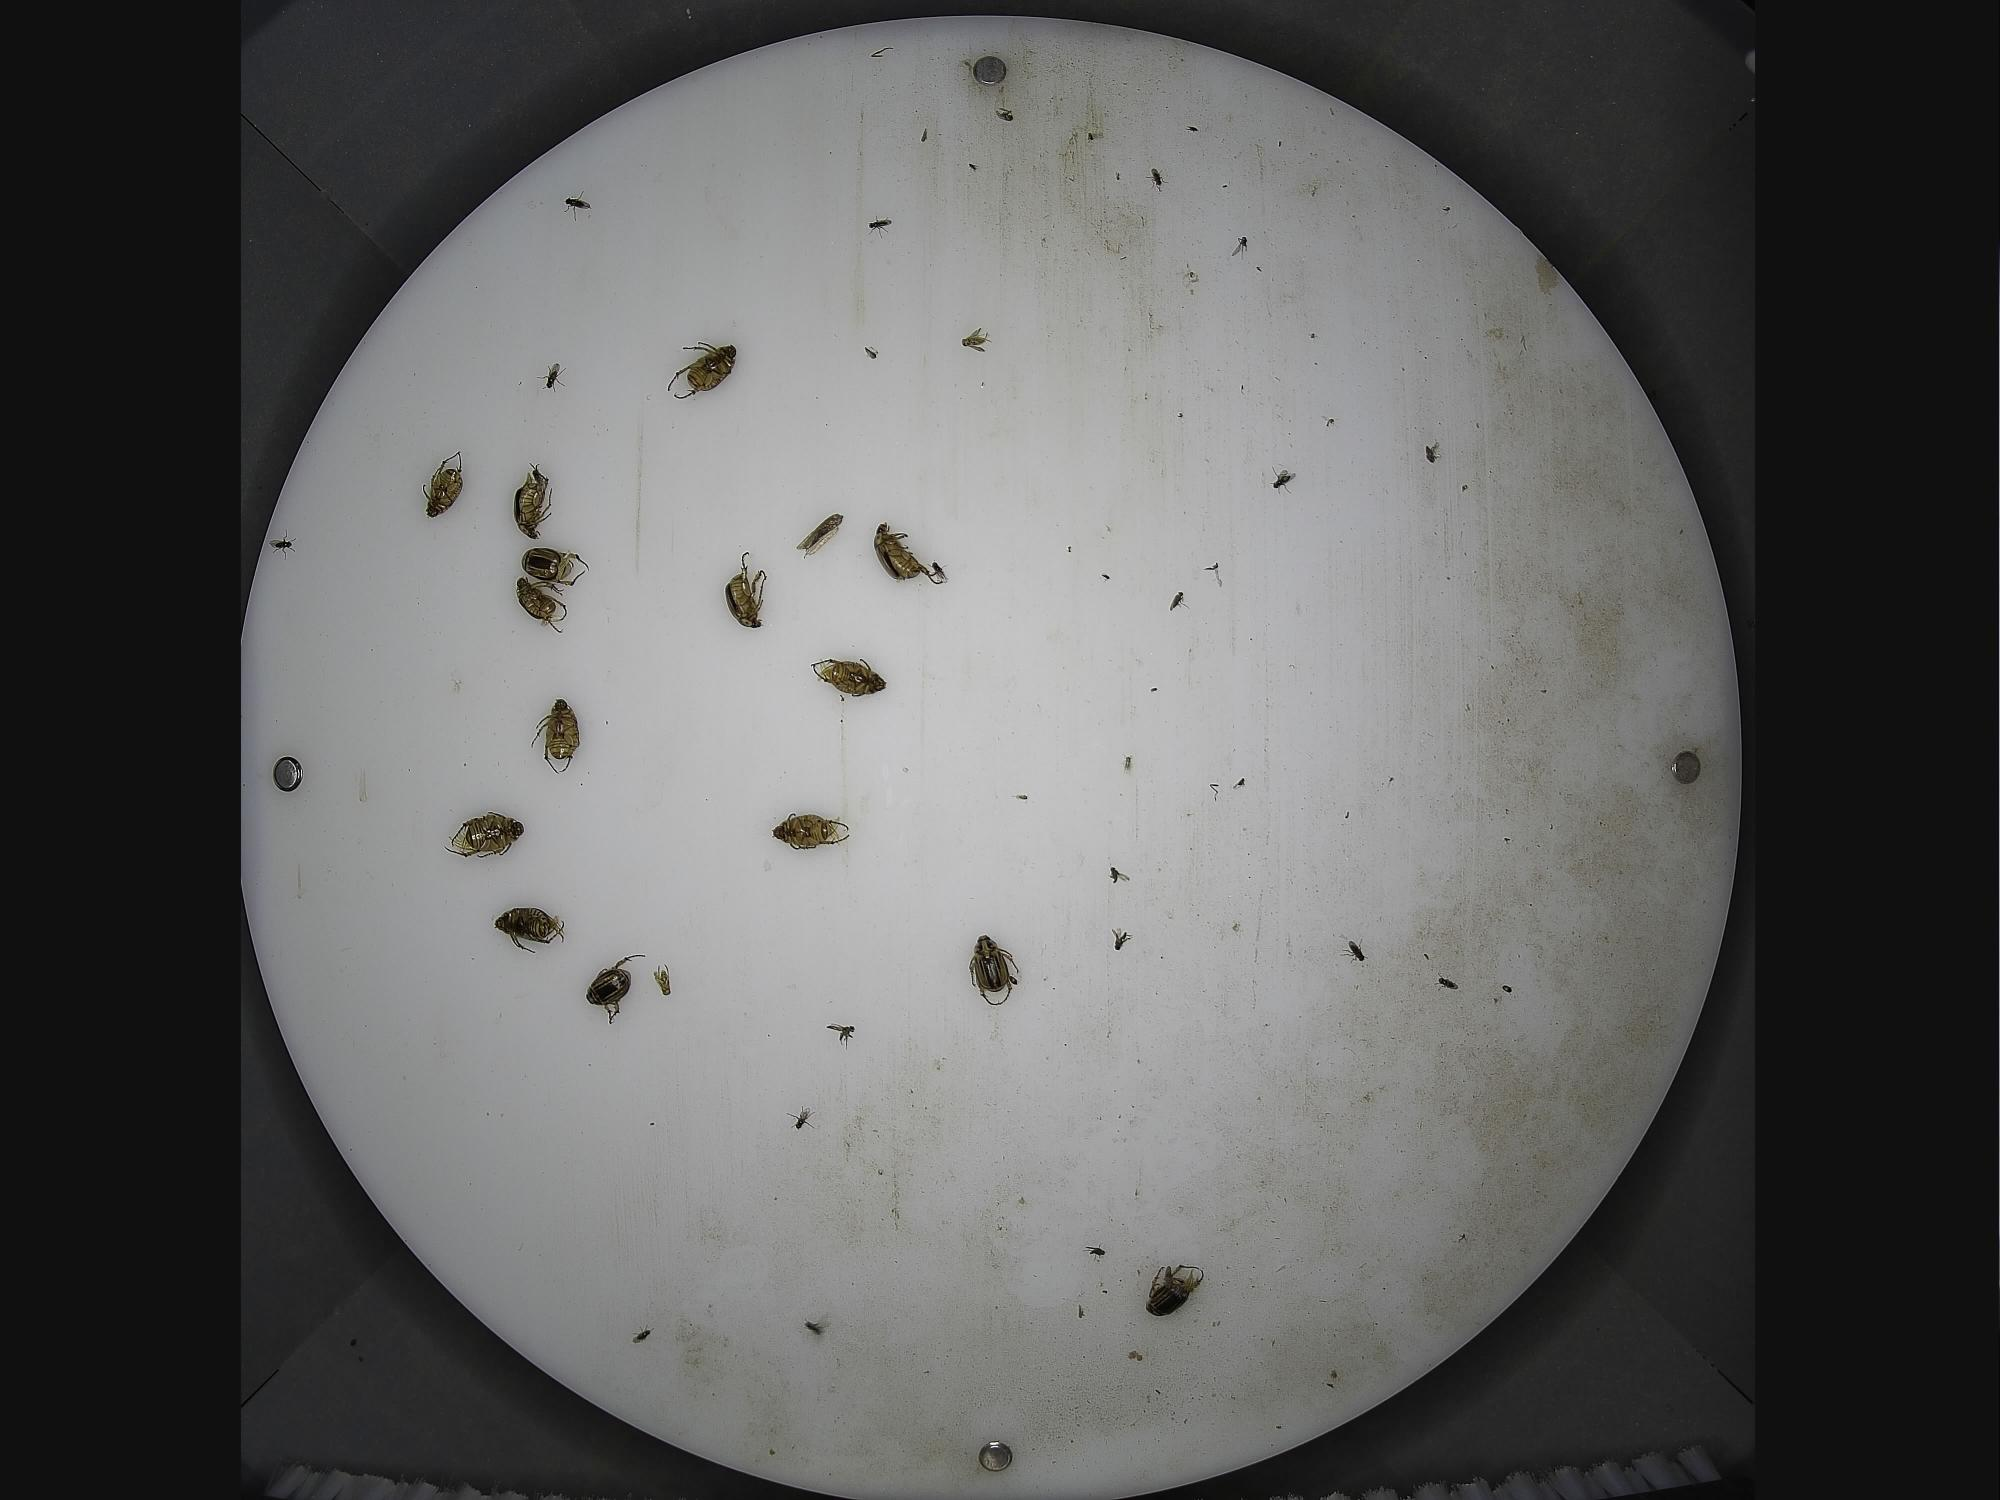Tiny fly: (1339, 934, 1373, 967), (783, 1103, 820, 1133), (534, 362, 569, 394), (824, 1021, 858, 1053), (269, 526, 299, 562), (564, 191, 594, 224), (1269, 466, 1299, 496), (1431, 971, 1465, 997), (1143, 164, 1172, 194), (630, 1320, 658, 1347), (1110, 928, 1137, 955), (866, 214, 894, 239), (1080, 1240, 1110, 1264), (800, 1317, 831, 1339), (1165, 589, 1192, 613), (1107, 865, 1135, 887), (1424, 436, 1444, 466), (1230, 235, 1249, 263), (1120, 752, 1137, 775), (1231, 775, 1249, 794), (1320, 414, 1340, 430), (863, 345, 882, 361)
insect: (871, 522, 945, 589), (583, 953, 649, 1026), (666, 340, 742, 402), (441, 808, 528, 862), (717, 550, 772, 630), (531, 696, 586, 777), (969, 933, 1020, 1008), (510, 459, 556, 542), (491, 906, 567, 956), (809, 655, 890, 703), (1143, 1262, 1206, 1320), (770, 810, 852, 852), (420, 449, 466, 520), (515, 575, 569, 635), (518, 545, 592, 588), (652, 961, 676, 997)
moth: (792, 509, 850, 562)
skeeter: (959, 325, 995, 355)
